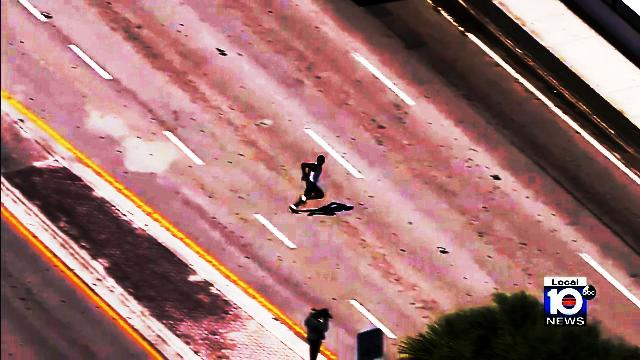berlari: (291, 151, 327, 216)
